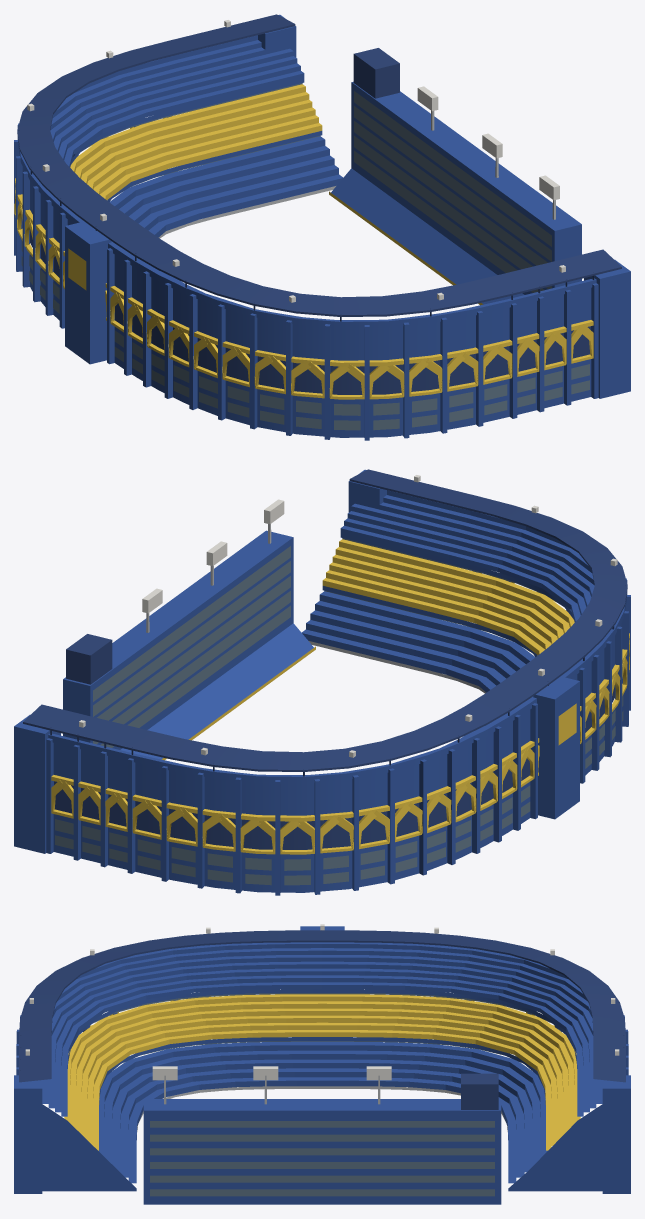
Rendered from buenos-aires-la-bombonera.glb.
The picture shows the model from 3 angles, top to bottom: view 1: azimuth 30°, elevation 25°; view 2: azimuth 150°, elevation 25°; view 3: azimuth 270°, elevation 25°; orthographic projection. The views are drawn at different scales.
Visible parts, largest first — view 1: La Bombonera; view 2: La Bombonera; view 3: La Bombonera.
Boxes of the visible parts, <box> form: La Bombonera: <box>14,14,630,440</box>; La Bombonera: <box>14,469,630,895</box>; La Bombonera: <box>14,924,630,1204</box>.
Size of the model in its own units: 130 by 45 by 196.
